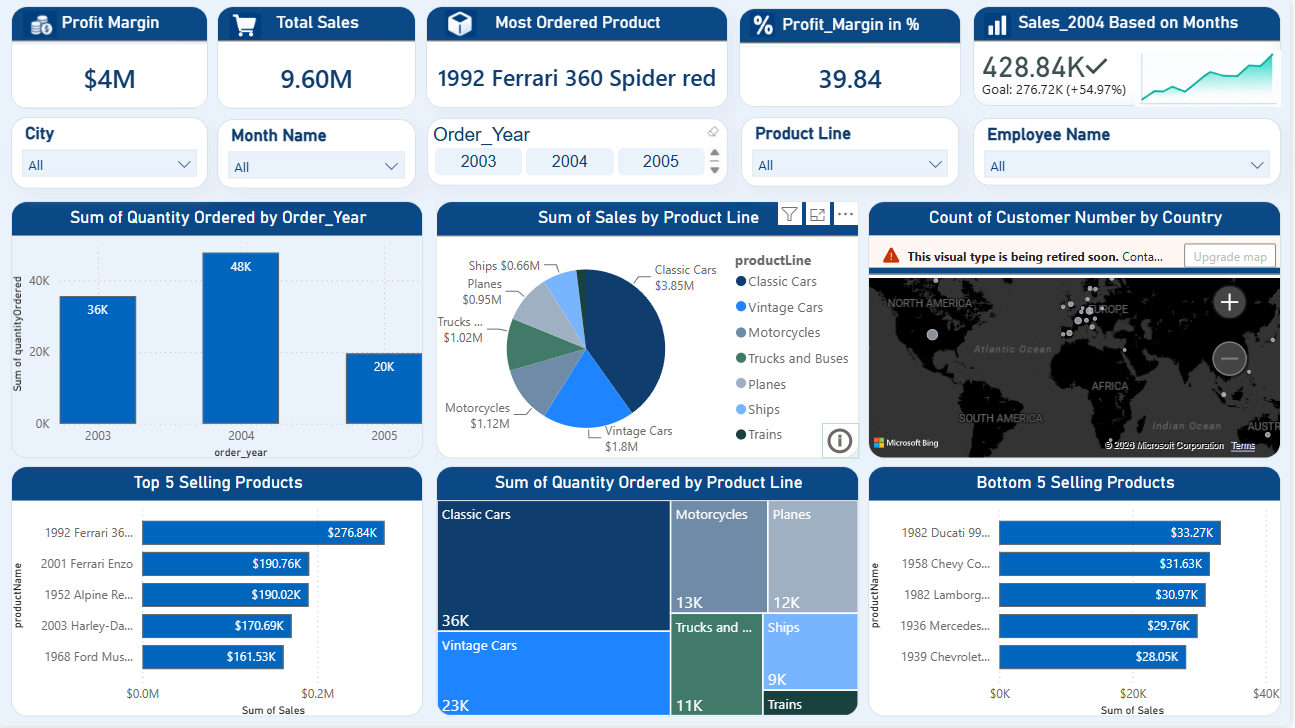

This screenshot's page, from the dashboard's own definition file:
{"tool":"powerbi","page":{"name":"DASHBOARD","canvas":[1280,720],"ordinal":0},"visuals":[{"type":"cardVisual","title":"Most Ordered Product","fields":{"Data":["order details.Most Ordered Product"]},"box":[423.5,6.9,299,101],"z":0},{"type":"barChart","title":"Top 5 Selling Products","fields":{"Category":["Products.productName"],"Y":["Sum(order details.Sales)"]},"box":[12.4,462.9,407.9,248.3],"z":1000},{"type":"pieChart","title":"Sum of Sales by Product Line","fields":{"Y":["Sum(order details.Sales)"],"Category":["Products.productLine"]},"box":[433.6,200,419.1,255.5],"z":2000},{"type":"slicer","title":"MONTHS","fields":{"Values":["Orders.Month Name"]},"box":[216.7,118.3,196.7,69.2],"z":3000},{"type":"kpi","title":"Sales_2004 Based on Months","fields":{"Goal":["Orders.sales_2003"],"TrendLine":["Orders.Month Name"],"Indicator":["Orders.sales_2004"]},"box":[965.5,7.3,305.5,99.1],"z":4000},{"type":"columnChart","title":"Sum of Quantity Ordered by Order_Year","fields":{"Category":["Orders.order_year"],"Y":["Sum(order details.quantityOrdered)"]},"box":[12.7,200,408.2,255.5],"z":5000},{"type":"cardVisual","title":"Profit_Margin in %","fields":{"Data":["Customer name.profit_margin%"]},"box":[733.3,9.2,220,98.3],"z":6000},{"type":"cardVisual","title":"Total Sales","fields":{"Data":["order details.Total_sales"]},"box":[216.7,6.9,197.1,102],"z":7000},{"type":"ChicletSlicer1448559807354","fields":{"Category":["Orders.order_year"]},"box":[424.5,118.2,298.2,67.3],"z":8000},{"type":"slicer","fields":{"Values":["office.city"]},"box":[12.7,116.4,195.5,70.9],"z":9000},{"type":"map","title":"Count of Customer Number by Country","fields":{"Category":["Customer name.country"],"Size":["CountNonNull(Customer name.customerNumber)"]},"box":[861.8,200,409.1,255.5],"z":10000},{"type":"slicer","fields":{"Values":["employees.FULL NAME"]},"box":[965.5,118.2,305.5,67.3],"z":11000},{"type":"slicer","fields":{"Values":["Products.productLine"]},"box":[735.5,116.4,216.4,69.1],"z":12000},{"type":"treemap","title":"Sum of Quantity Ordered by Product Line","fields":{"Details":["Products.productLine"],"Values":["Sum(order details.quantityOrdered)"]},"box":[433.6,462.7,419.1,248.2],"z":13000},{"type":"barChart","title":"Bottom 5 Selling Products","fields":{"Category":["Products.productName"],"Y":["Sum(order details.Sales)"]},"box":[861.9,462.9,408.8,248.3],"z":14000},{"type":"actionButton","box":[815.5,420,37.3,35.5],"z":15000},{"type":"image","box":[229.1,4.5,31.8,43.6],"z":16000},{"type":"image","box":[433.6,10.9,49.1,27.3],"z":17000},{"type":"image","box":[744.5,11.8,25.5,26.4],"z":18000},{"type":"image","box":[1125.5,40,145.5,78.2],"z":19000},{"type":"image","box":[976.4,11.8,27.3,29.1],"z":20000},{"type":"cardVisual","title":" Profit Margin ","fields":{"Data":["Sum(order details.Profit)"]},"box":[12.7,7.3,195.5,101.8],"z":21000},{"type":"actionButton","box":[20.4,0,41.7,50.5],"z":22000}]}

Visuals, with their boxes in screenshot pixels (x1, y1, x2, y2), scaled from the page's 1280x720 canvas onto the 1295x728 screenshot:
"Most Ordered Product" cardVisual: box=[428, 7, 731, 109]
"Top 5 Selling Products" barChart: box=[13, 468, 425, 719]
"Sum of Sales by Product Line" pieChart: box=[439, 202, 863, 461]
"MONTHS" slicer: box=[219, 120, 418, 190]
"Sales_2004 Based on Months" kpi: box=[977, 7, 1286, 108]
"Sum of Quantity Ordered by Order_Year" columnChart: box=[13, 202, 426, 461]
"Profit_Margin in %" cardVisual: box=[742, 9, 964, 109]
"Total Sales" cardVisual: box=[219, 7, 419, 110]
ChicletSlicer1448559807354 - Orders.order_year: box=[429, 120, 731, 188]
slicer - office.city: box=[13, 118, 211, 189]
"Count of Customer Number by Country" map: box=[872, 202, 1286, 461]
slicer - employees.FULL NAME: box=[977, 120, 1286, 188]
slicer - Products.productLine: box=[744, 118, 963, 188]
"Sum of Quantity Ordered by Product Line" treemap: box=[439, 468, 863, 719]
"Bottom 5 Selling Products" barChart: box=[872, 468, 1286, 719]
actionButton: box=[825, 425, 863, 461]
image: box=[232, 5, 264, 49]
image: box=[439, 11, 488, 39]
image: box=[753, 12, 779, 39]
image: box=[1139, 40, 1286, 120]
image: box=[988, 12, 1015, 41]
" Profit Margin " cardVisual: box=[13, 7, 211, 110]
actionButton: box=[21, 0, 63, 51]
